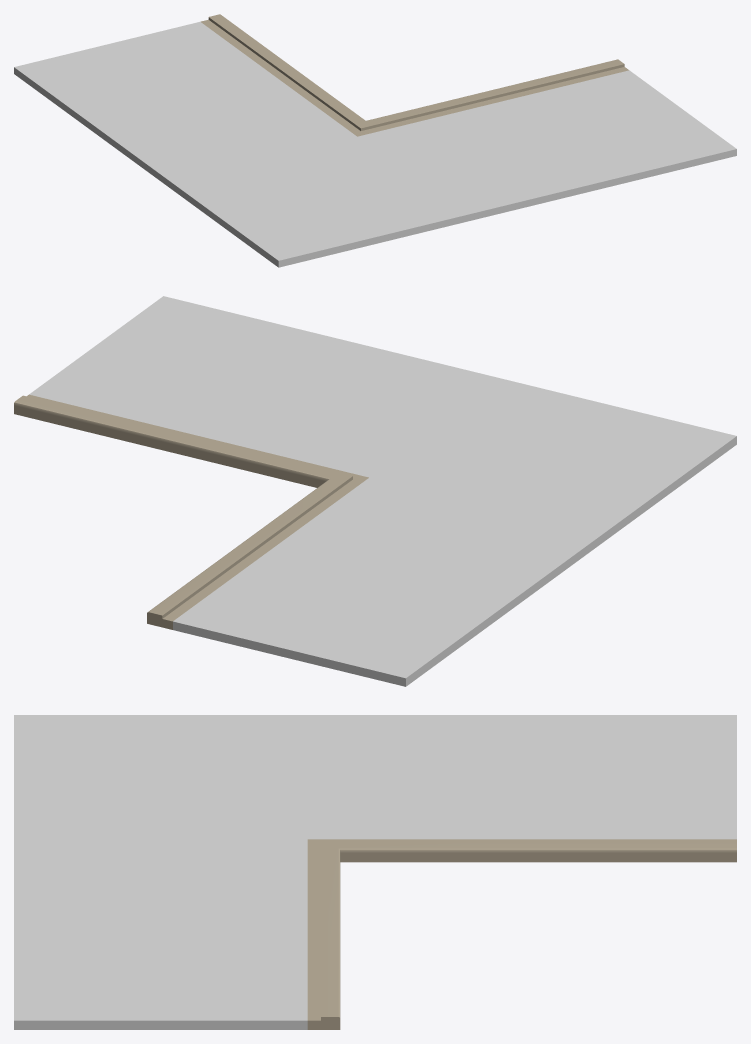
The model's file is SideWalk_Corner_Unattached_Inner_Curb_Raw.fbx.
3 views of the same model, one above another, from view 1: azimuth 30°, elevation 25°; view 2: azimuth 150°, elevation 25°; view 3: azimuth 270°, elevation 25° (orthographic). The views are drawn at different scales.
Visible parts, largest first — view 1: sidewalk_unattached2; view 2: sidewalk_unattached2; view 3: sidewalk_unattached2.
Boxes of the visible parts, box(x1,y1,x2,y2) form: sidewalk_unattached2: box(14, 14, 736, 267); sidewalk_unattached2: box(14, 296, 736, 686); sidewalk_unattached2: box(14, 715, 736, 1029).
Bounding box in the file's own units: 177 × 3.53 × 177.
